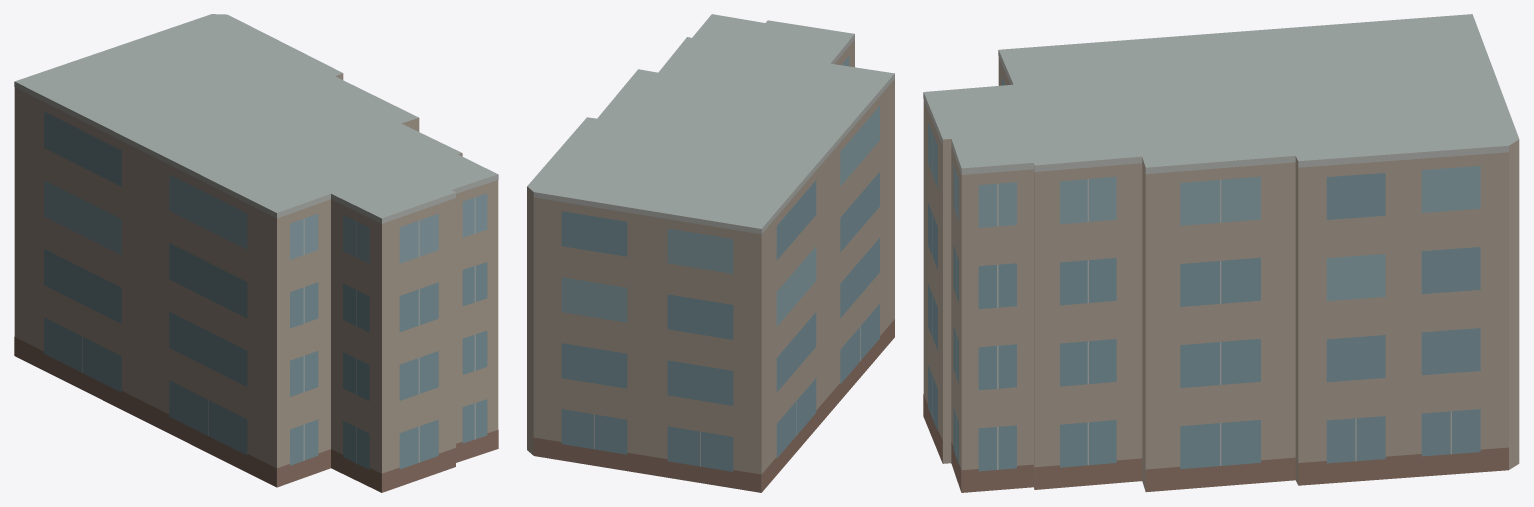
The model's file is survey-upis-32575645.glb.
The picture shows the model from 3 angles, left to right: view 1: azimuth 30°, elevation 25°; view 2: azimuth 150°, elevation 25°; view 3: azimuth 270°, elevation 25°; orthographic projection. The views are drawn at different scales.
Parts seen in each view (by area): view 1: survey-upis-32575645.tmp; view 2: survey-upis-32575645.tmp; view 3: survey-upis-32575645.tmp.
Boxes of the visible parts, x1,y1,x2,y2 form: survey-upis-32575645.tmp: (14, 14, 498, 492); survey-upis-32575645.tmp: (527, 14, 894, 492); survey-upis-32575645.tmp: (923, 14, 1519, 492).
Size of the model in its own units: 12.47 by 12.2 by 20.32.
